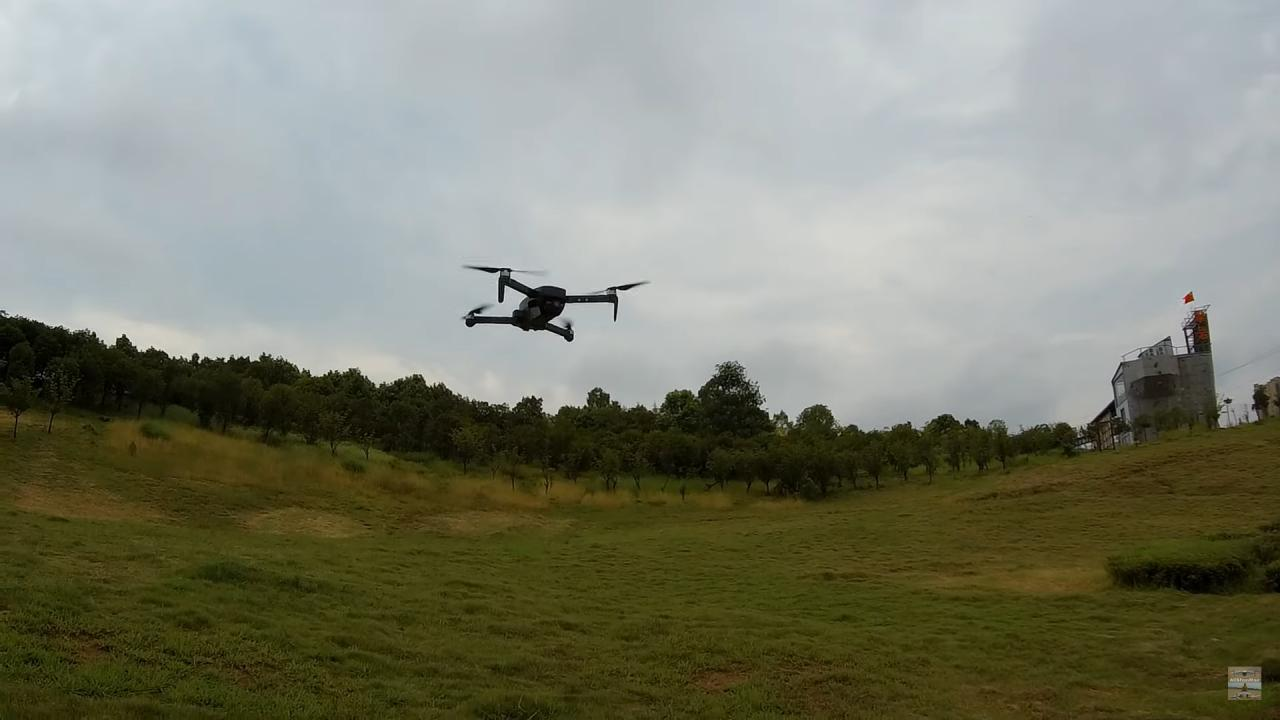Drone: (441, 250, 657, 352)
